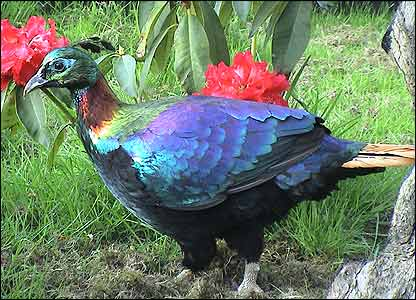bird: (21, 34, 416, 300)
